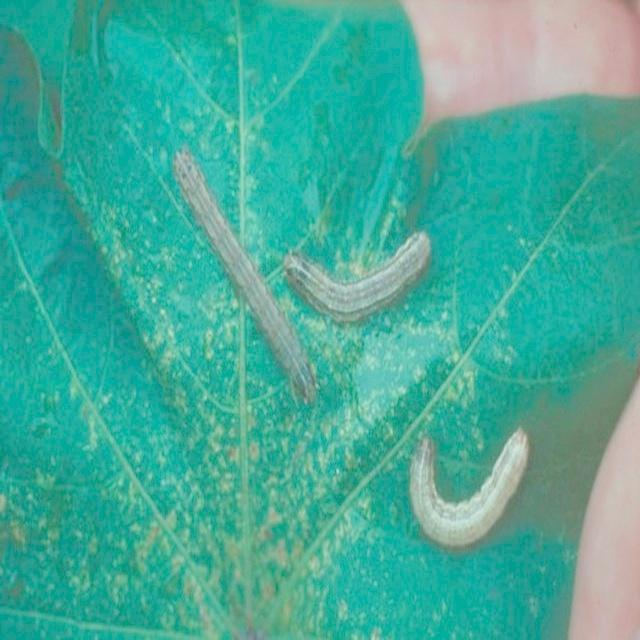gusano_cogollero: (182, 165, 315, 397), (405, 430, 530, 548), (278, 232, 430, 318)
